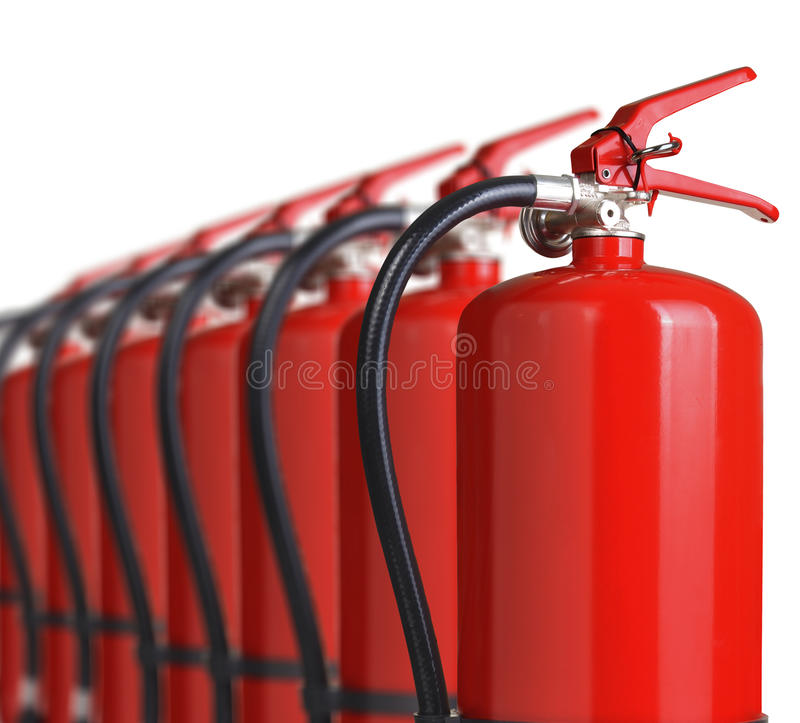fire_extinguisher: (2, 65, 779, 721), (1, 103, 601, 722), (353, 65, 780, 721)
